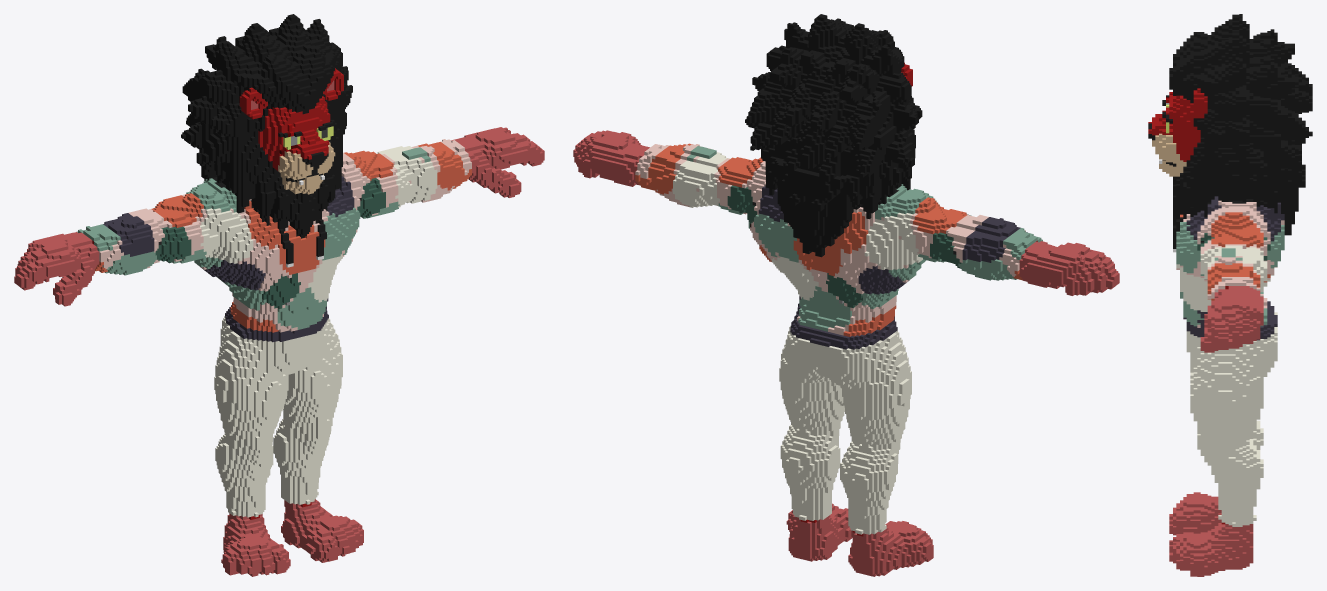
3 renders of one model, left to right at view 1: azimuth 30°, elevation 25°; view 2: azimuth 150°, elevation 25°; view 3: azimuth 270°, elevation 25°, orthographic. The views are drawn at different scales.
Visible parts, largest first — view 1: standard; view 2: standard; view 3: standard.
Part boxes in pixels (box(x1,y1,x2,y2)): standard: box(14, 14, 544, 576); standard: box(573, 14, 1119, 576); standard: box(1148, 14, 1312, 576).
Bounding box in the file's own units: 17.2 × 16.5 × 4.7.
5 materials, 5 textured.
